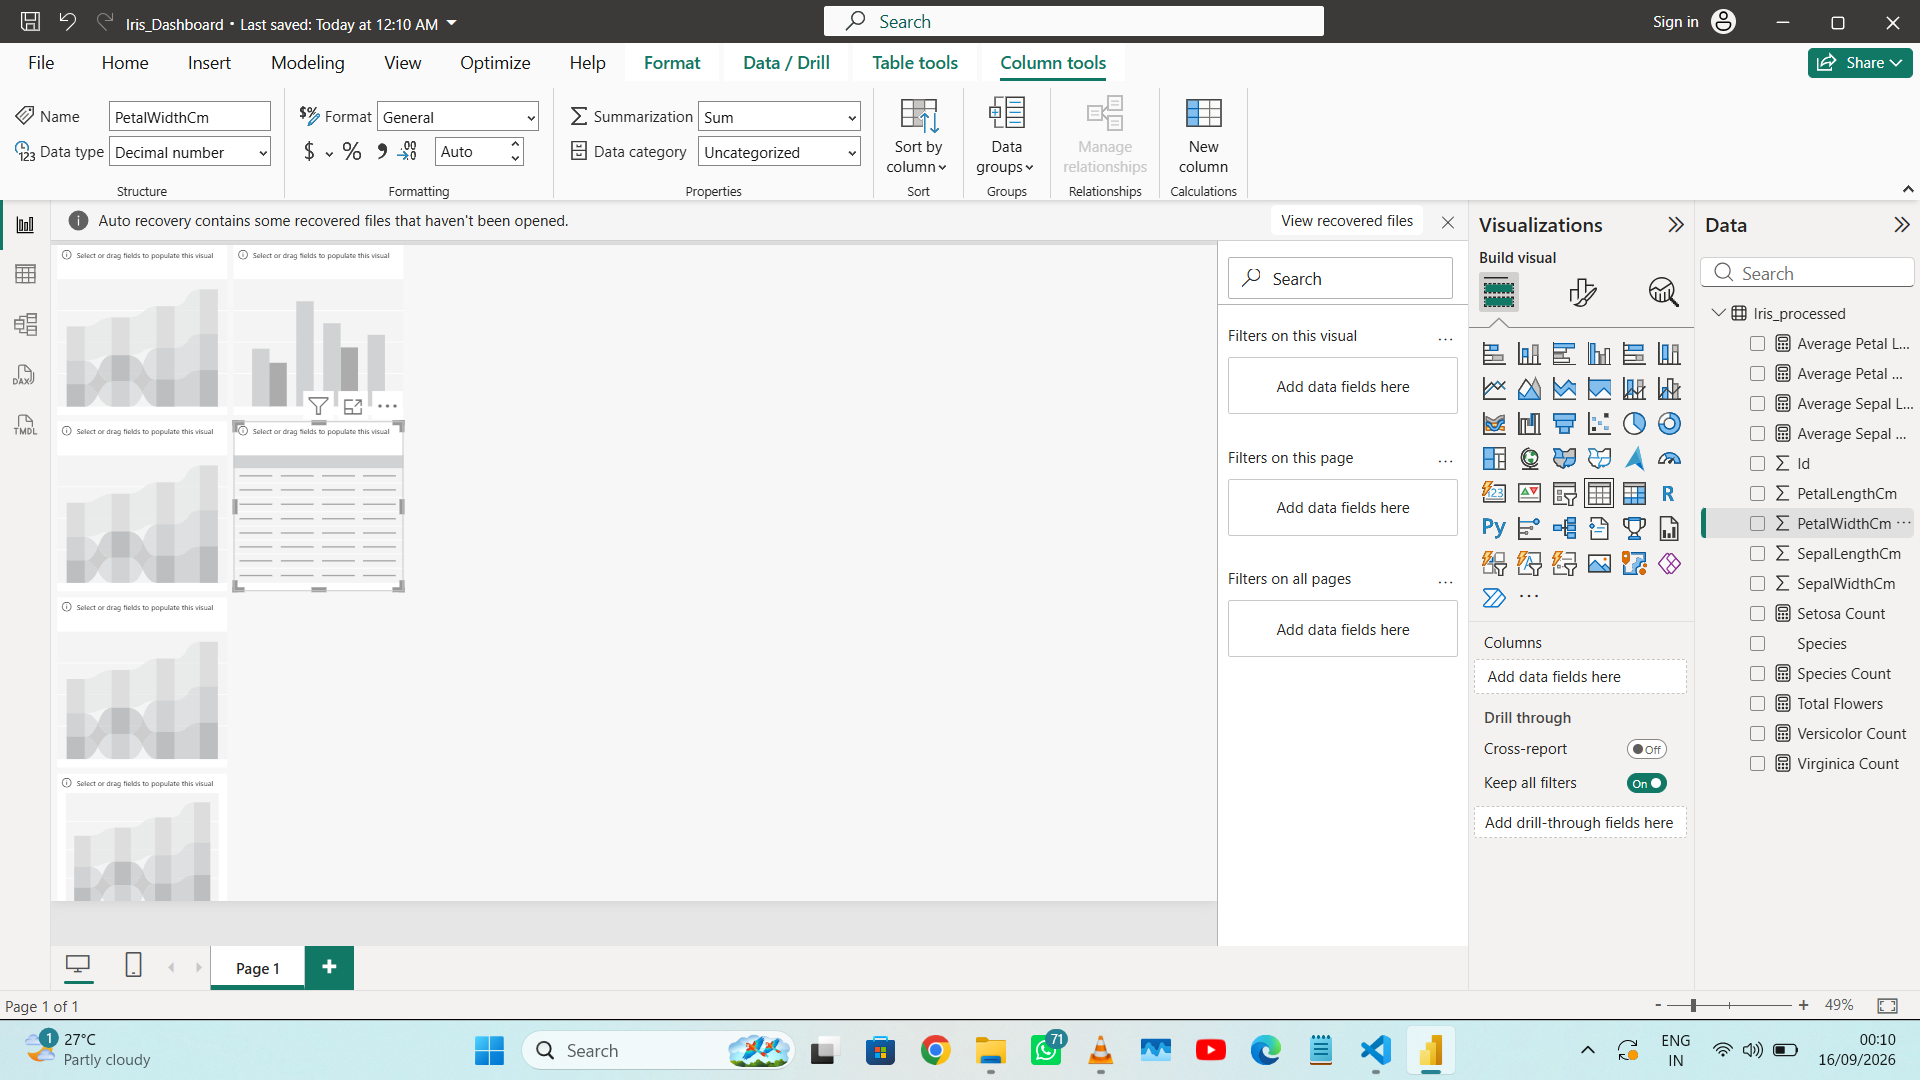

Layout of this report page (visuals, bound fields, positions):
{"tool":"powerbi","page":{"name":"Page 1","canvas":[1920,1080],"ordinal":0},"visuals":[{"type":"ribbonChart","fields":{"Category":["Iris_processed.SepalLengthCm"]},"box":[1475.8,244.9,277.9,279.9],"z":0},{"type":"ribbonChart","fields":{"Category":["Iris_processed.Species"],"Y":["Sum(Iris_processed.SepalLengthCm)"]},"box":[49.4,150.3,463.1,374.6],"z":1},{"type":"ribbonChart","box":[617.5,175,358.1,333.4],"z":5},{"type":"tableEx","fields":{"Values":["Sum(Iris_processed.PetalWidthCm)"]},"box":[300,580,280,280],"z":6},{"type":"tableEx","fields":{"Values":["Sum(Iris_processed.SepalLengthCm)"]},"box":[1020.9,105,280,280],"z":9},{"type":"actionButton","box":[0,0,100,40],"z":10},{"type":"tableEx","fields":{"Values":["Iris_processed.Species"]},"box":[819.2,580.4,280.5,278.7],"z":11},{"type":"textbox","box":[279,0,258,174],"z":12}]}

Visuals, with their boxes on the page's 1920x1080 design canvas (x1, y1, x2, y2). These are canvas units, not pixel positions in the 1920x1080 screenshot, which may show the page scaled, cropped or inside an application window:
ribbonChart - Iris_processed.SepalLengthCm: x1=1476, y1=245, x2=1754, y2=525
ribbonChart - Iris_processed.Species x Sum(Iris_processed.SepalLengthCm): x1=49, y1=150, x2=512, y2=525
ribbonChart: x1=618, y1=175, x2=976, y2=508
tableEx - Sum(Iris_processed.PetalWidthCm): x1=300, y1=580, x2=580, y2=860
tableEx - Sum(Iris_processed.SepalLengthCm): x1=1021, y1=105, x2=1301, y2=385
actionButton: x1=0, y1=0, x2=100, y2=40
tableEx - Iris_processed.Species: x1=819, y1=580, x2=1100, y2=859
textbox: x1=279, y1=0, x2=537, y2=174
